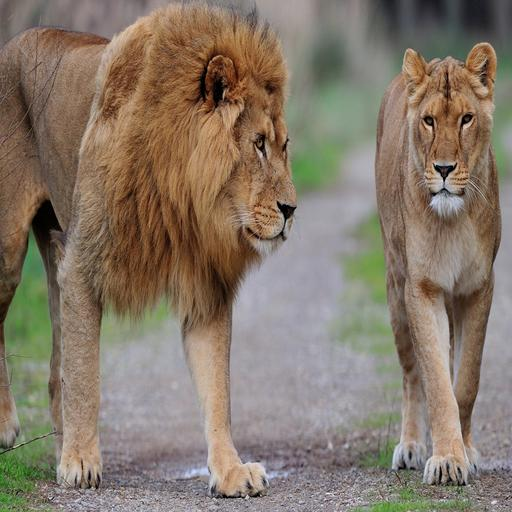Lion: (0, 0, 303, 505), (372, 31, 512, 499)
